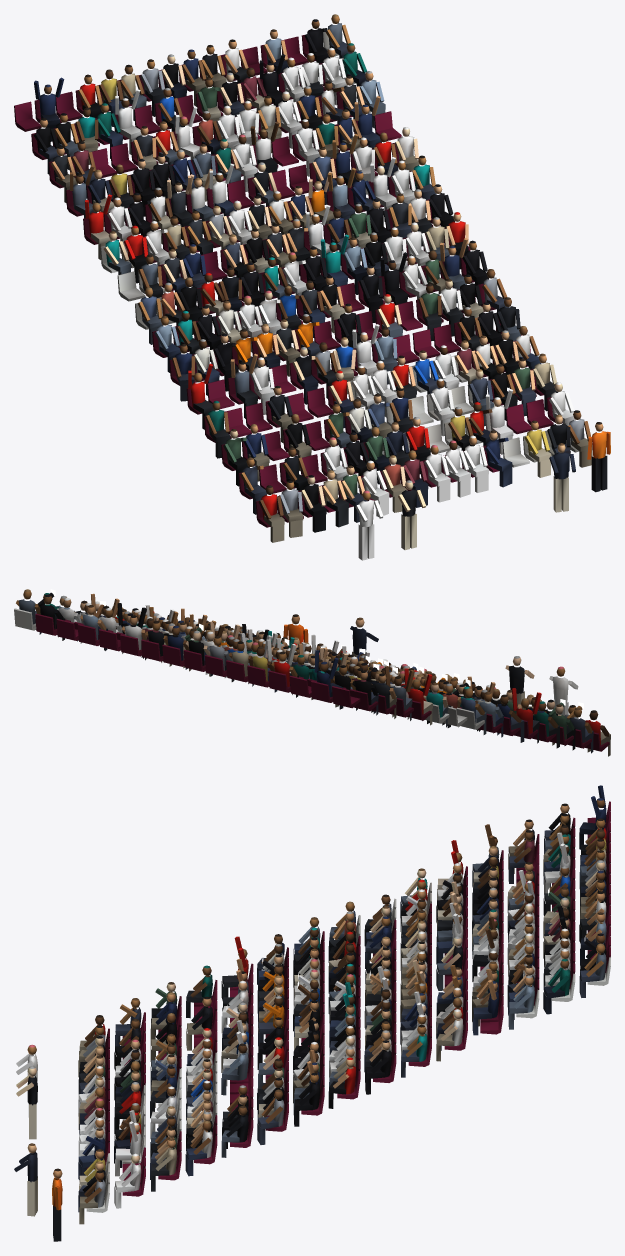
File: stand_T16_kit_1.glb
3 renders of one model, top to bottom at view 1: azimuth 30°, elevation 25°; view 2: azimuth 150°, elevation 25°; view 3: azimuth 270°, elevation 25°, orthographic. The views are drawn at different scales.
Visible parts, largest first — view 1: kit_1; view 2: kit_1; view 3: kit_1.
Boxes of the visible parts, x1=… form: kit_1: x1=14, y1=14, x2=610, y2=560; kit_1: x1=14, y1=589, x2=610, y2=756; kit_1: x1=14, y1=785, x2=610, y2=1241.
Bounding box in the file's own units: 9.02 × 7.41 × 13.35.
